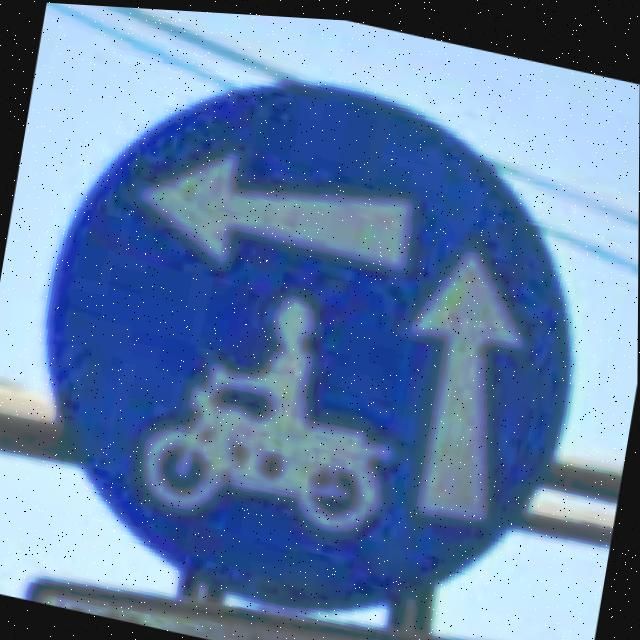twostageturn: (45, 80, 574, 609)
